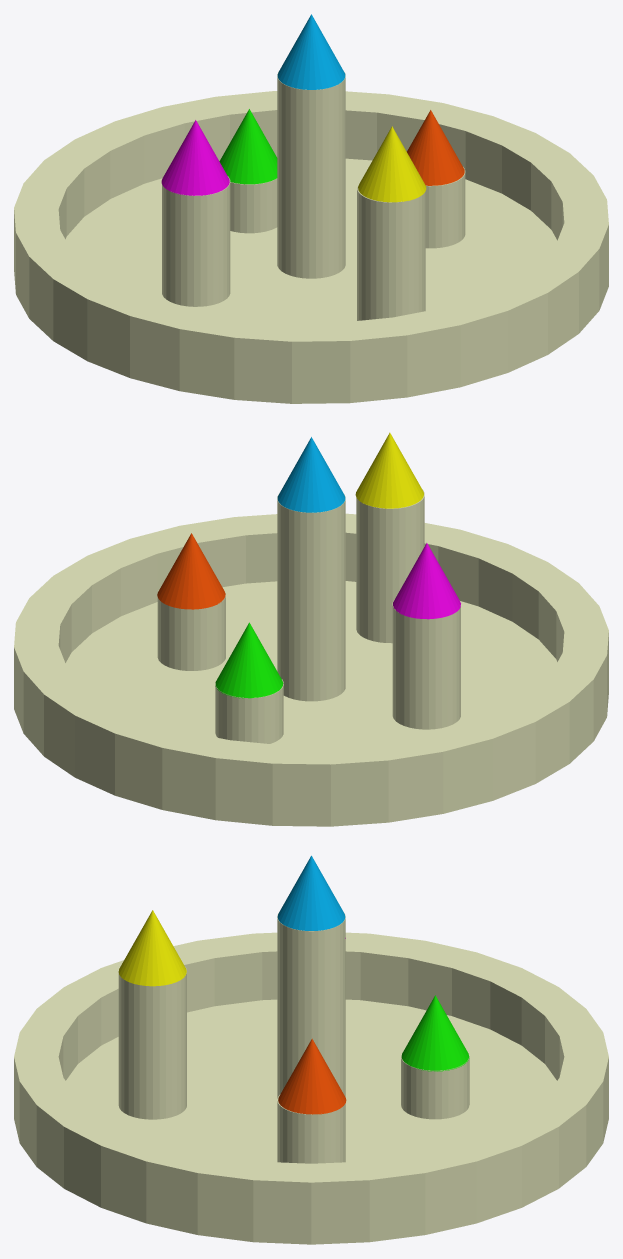
File: fountain.fbx
3 renders of one model, top to bottom at view 1: azimuth 30°, elevation 25°; view 2: azimuth 150°, elevation 25°; view 3: azimuth 270°, elevation 25°, orthographic.
Parts seen in each view (by area): view 1: Cylinder; view 2: Cylinder; view 3: Cylinder.
Boxes of the visible parts, x1,y1,x2,y2 form: Cylinder: (14,14,608,403); Cylinder: (14,432,608,826); Cylinder: (14,855,608,1244).
Bounding box in the file's own units: 1738 × 850 × 1738.
